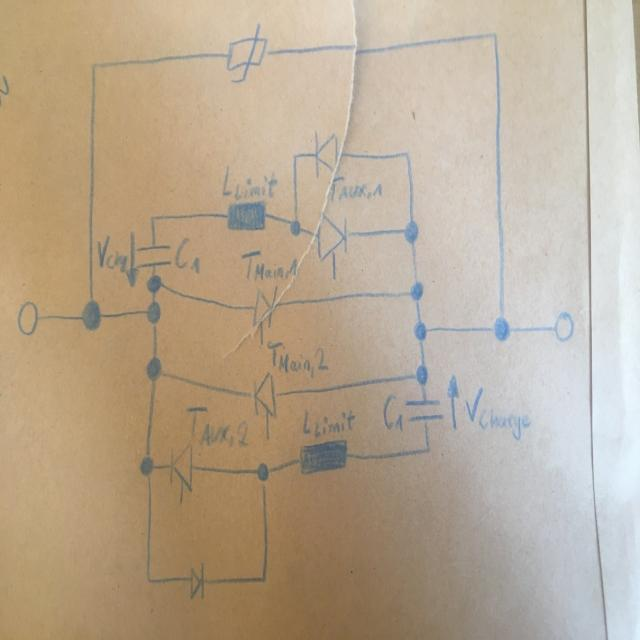capacitor: (404, 395, 444, 424), (135, 242, 172, 270)
diode: (312, 127, 341, 179), (188, 560, 205, 601)
inductor: (296, 437, 350, 477), (225, 200, 268, 232)
junction: (80, 296, 102, 332), (491, 312, 512, 342), (145, 356, 164, 382), (402, 218, 419, 245), (145, 299, 161, 326), (144, 272, 163, 294), (256, 461, 272, 487), (138, 453, 155, 477), (414, 362, 430, 387), (408, 278, 424, 303), (412, 318, 428, 342), (288, 217, 302, 237), (290, 148, 300, 163), (88, 60, 99, 72), (490, 28, 500, 41), (144, 574, 154, 586), (402, 149, 412, 159), (259, 573, 268, 584), (423, 444, 432, 454), (149, 212, 156, 222)
terminal: (16, 298, 40, 336), (554, 310, 575, 342)
text: (465, 386, 530, 441), (184, 403, 248, 450), (266, 338, 328, 378), (220, 162, 278, 201), (240, 246, 298, 282), (301, 407, 355, 439), (327, 174, 384, 201), (95, 234, 128, 273), (173, 235, 201, 274), (382, 392, 403, 433)
thyristor: (314, 210, 348, 272), (249, 371, 279, 424), (168, 442, 194, 499), (251, 284, 279, 335)
